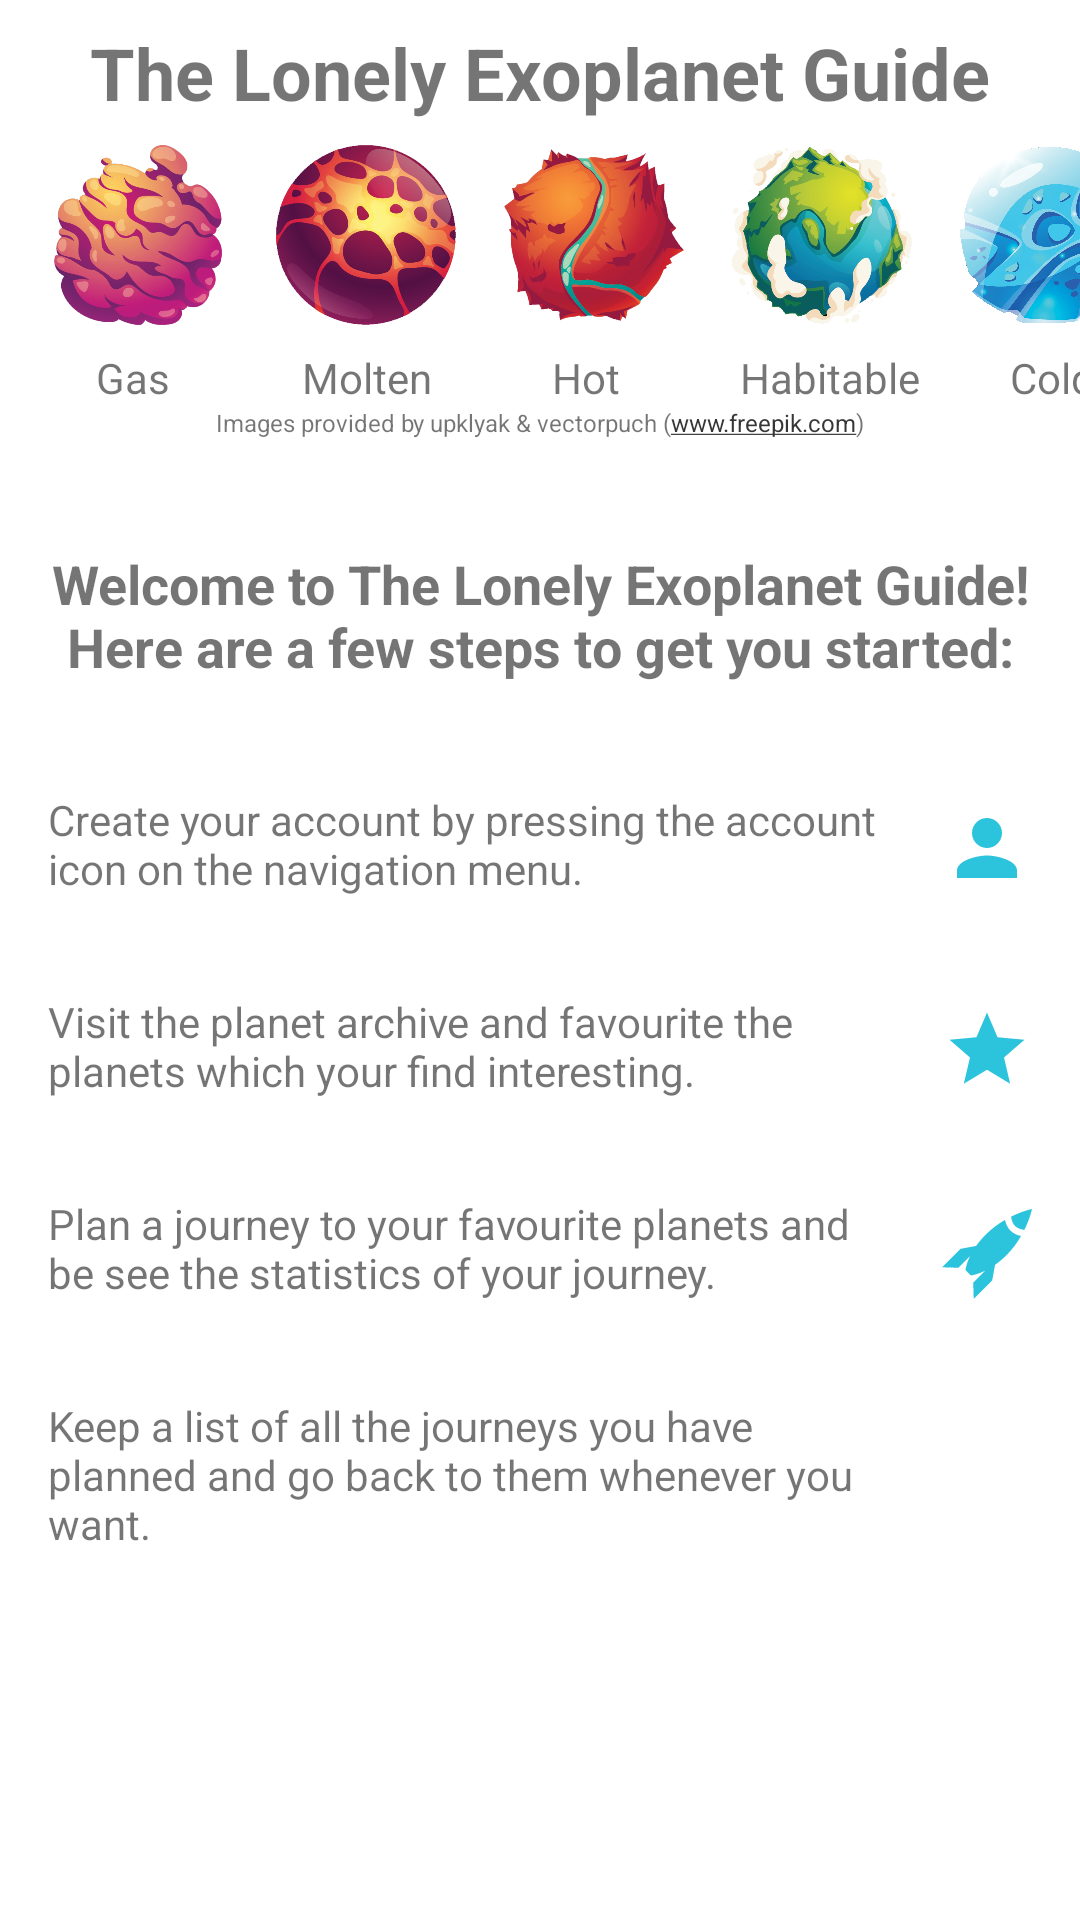

Named icons in this screenshot (1080×1920) and their centers, [x,y]:
desertvector: [594,235]
earthvector: [822,235]
Select a profile: [987,848]
